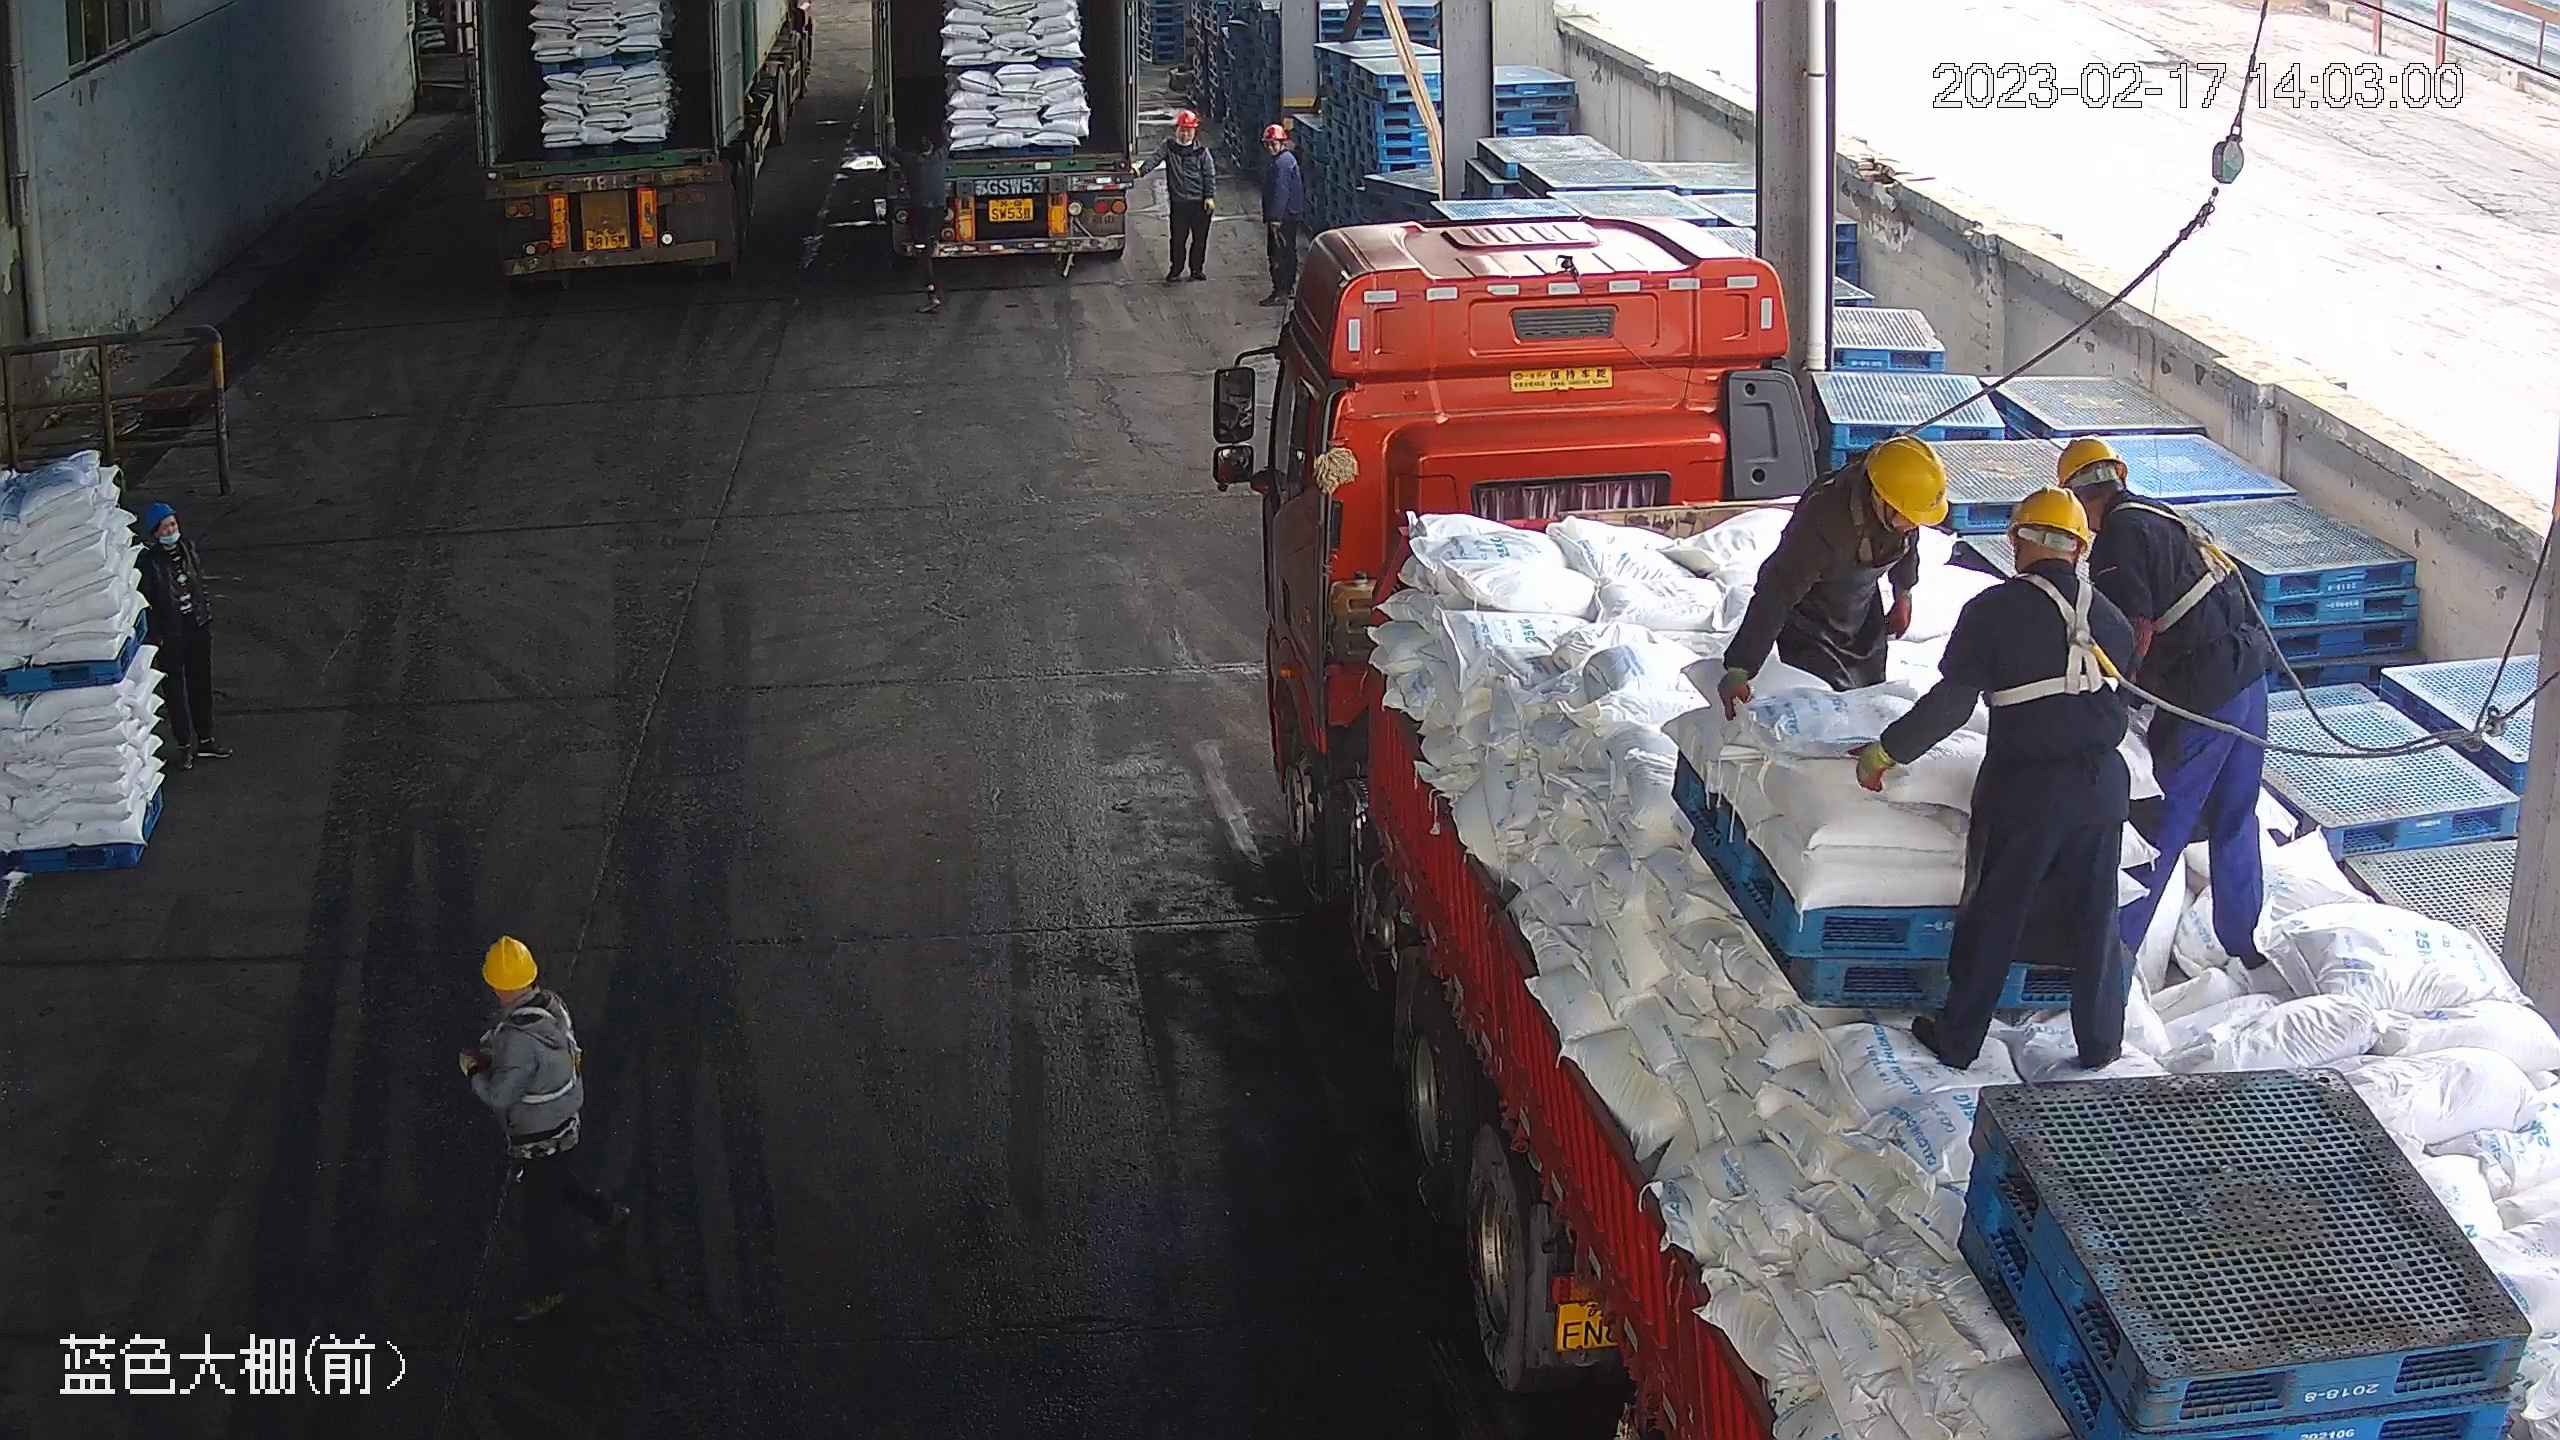belt: (1993, 565, 2135, 708), (2111, 490, 2244, 628), (502, 999, 580, 1116), (1836, 471, 1894, 565)
head: (1958, 483, 2129, 640), (1802, 432, 1954, 555), (2049, 436, 2199, 559), (469, 934, 579, 1061), (139, 508, 197, 585), (1257, 110, 1310, 168), (1163, 112, 1212, 163)
helmet: (1865, 434, 1953, 527), (2003, 483, 2094, 552), (2051, 434, 2128, 493), (479, 935, 538, 989), (1174, 111, 1199, 131)
people: (1851, 480, 2154, 1077), (2053, 434, 2288, 995), (1712, 434, 1954, 721), (454, 932, 620, 1339), (143, 505, 234, 768), (1153, 112, 1218, 289), (1248, 114, 1304, 304)
truck: (1243, 190, 2559, 1437), (474, 1, 825, 281), (862, 1, 1182, 284)
